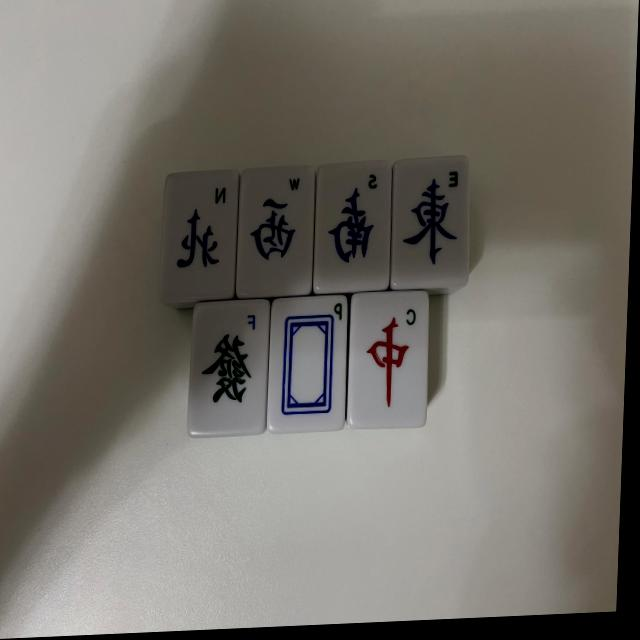bai: (266, 294, 349, 433)
east: (391, 154, 469, 288)
fa: (187, 298, 271, 436)
north: (160, 169, 239, 302)
south: (314, 160, 392, 293)
west: (235, 164, 315, 298)
zhong: (346, 290, 429, 429)
